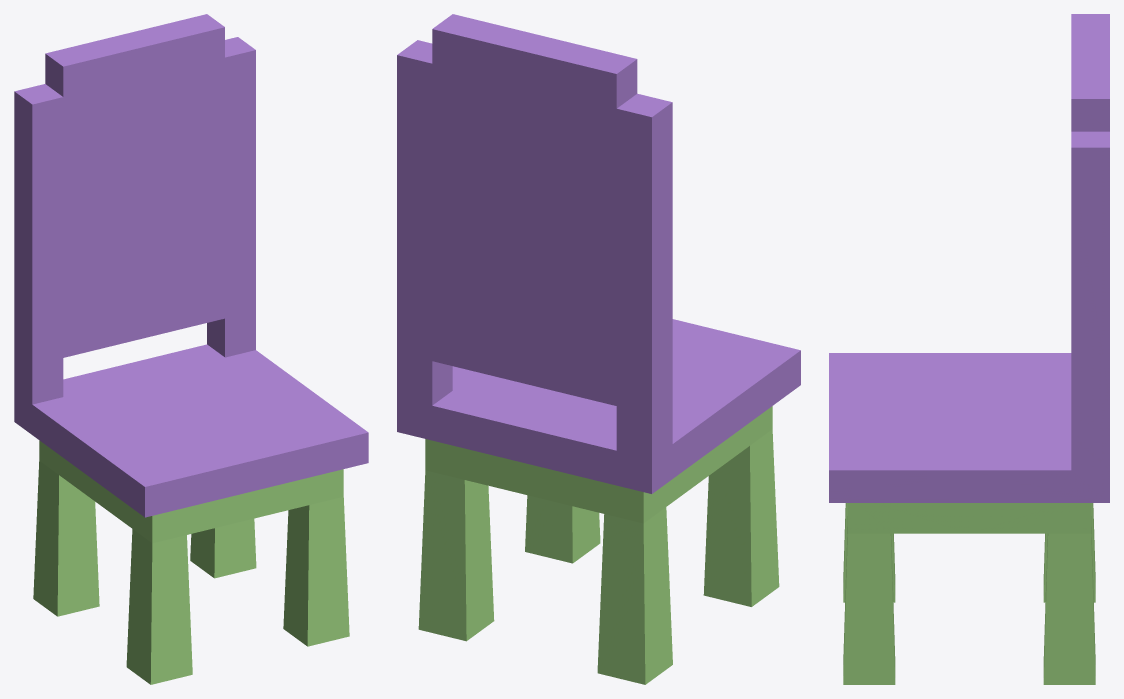
Rendered from Chair.glb.
3 renders of one model, left to right at view 1: azimuth 30°, elevation 25°; view 2: azimuth 150°, elevation 25°; view 3: azimuth 270°, elevation 25°, orthographic. The views are drawn at different scales.
Parts seen in each view (by area): view 1: Chair_1, Chair_0; view 2: Chair_1, Chair_0; view 3: Chair_1, Chair_0.
Part boxes in pixels (x1,y1,x2,y2): Chair_1: [14, 14, 368, 517]; Chair_0: [33, 440, 349, 684]; Chair_1: [397, 14, 800, 493]; Chair_0: [418, 406, 779, 684]; Chair_1: [829, 14, 1109, 502]; Chair_0: [843, 503, 1095, 684].
Bounding box in the file's own units: 0.4326 × 0.9913 × 0.4379.
